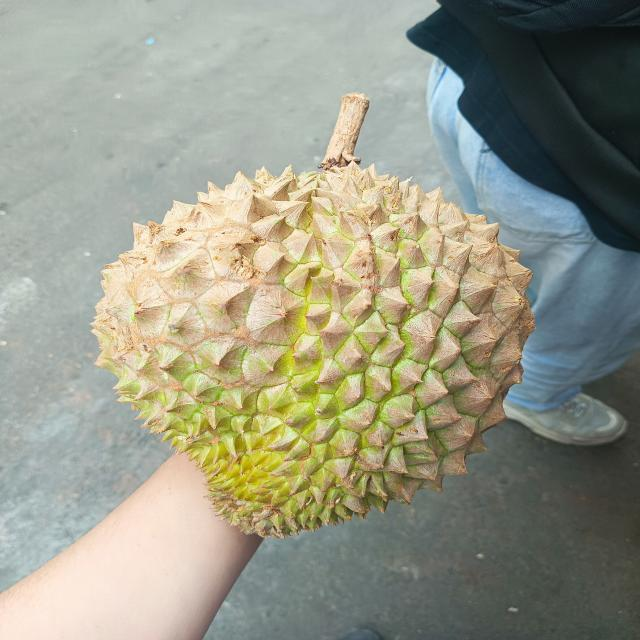mature: (92, 93, 534, 538)
